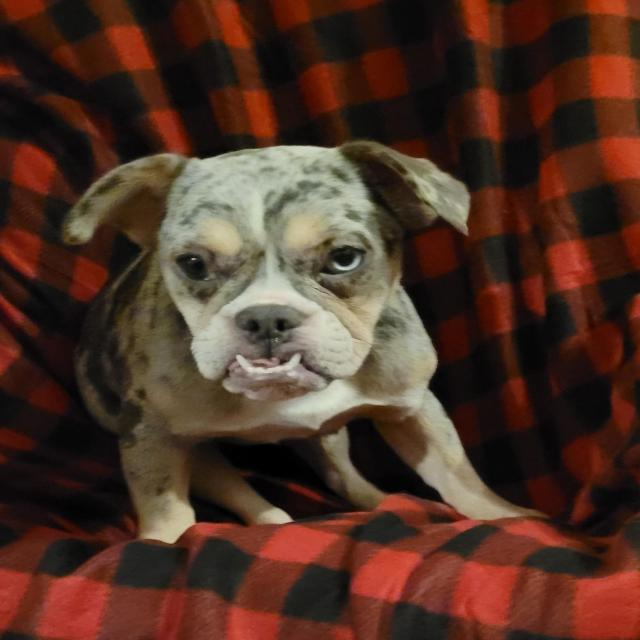french_bulldog_dog: (51, 134, 489, 408)
